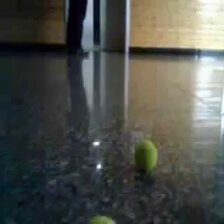tennis: (133, 140, 158, 175)
